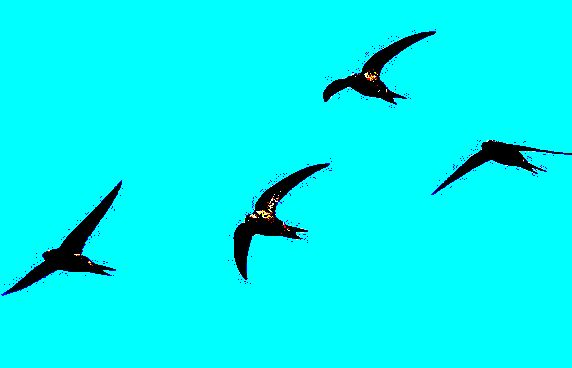Bird: (1, 176, 122, 296), (229, 161, 331, 282), (320, 27, 438, 106), (431, 134, 572, 196)
